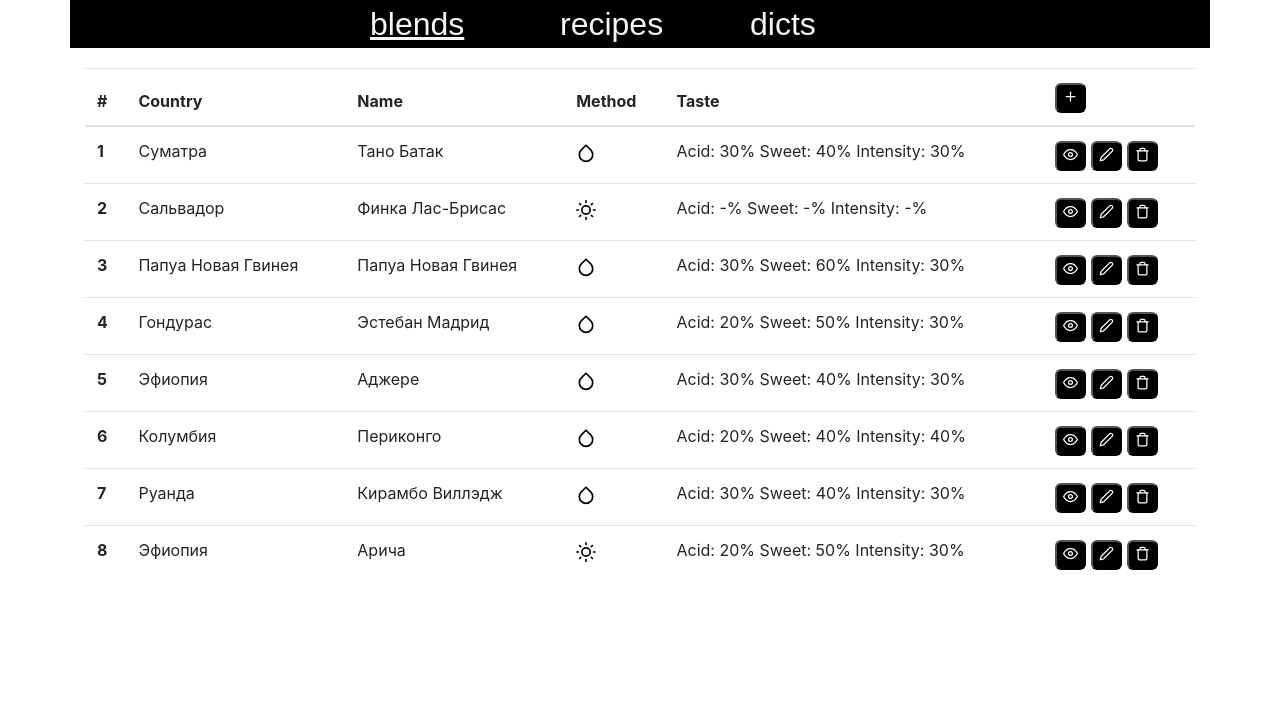
it: blends page spec › blends add value spec › should open/close a modal
Click the button with test id "add_btn".
click(1071, 98)  # box [1055,83,1086,113]
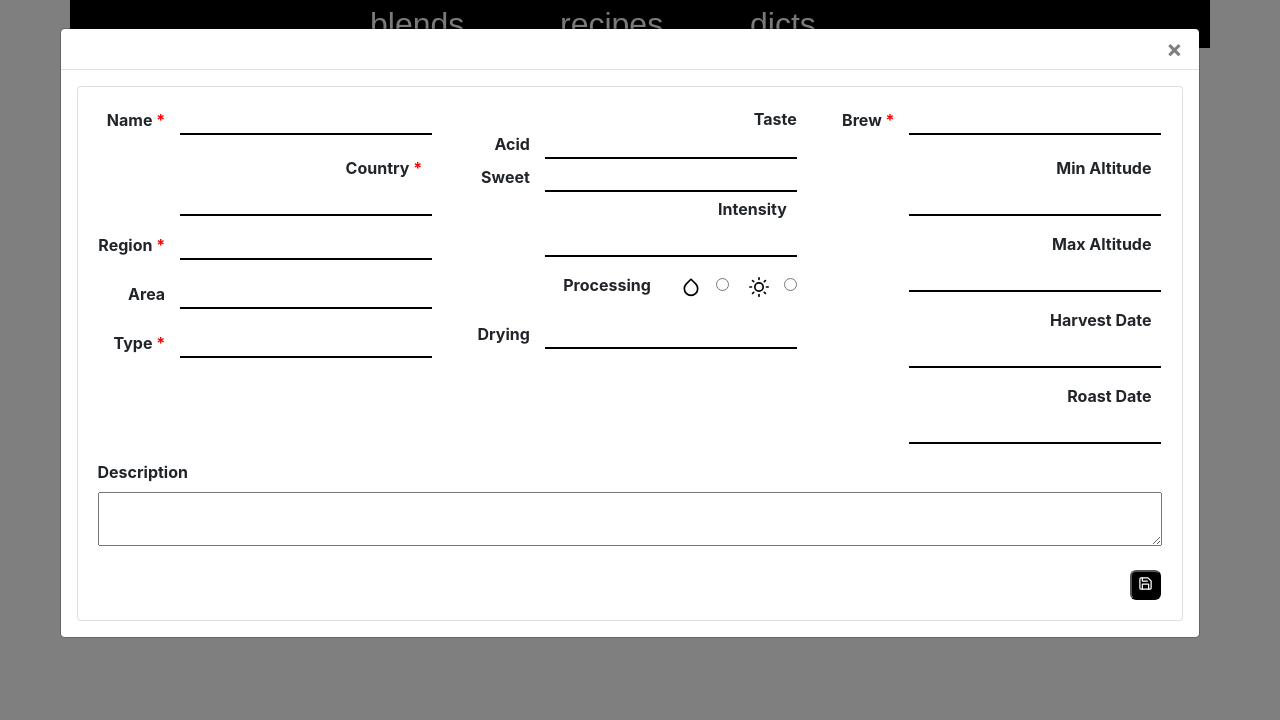
Click the button with class "close".
click(1174, 49)  # box [1150,21,1198,77]
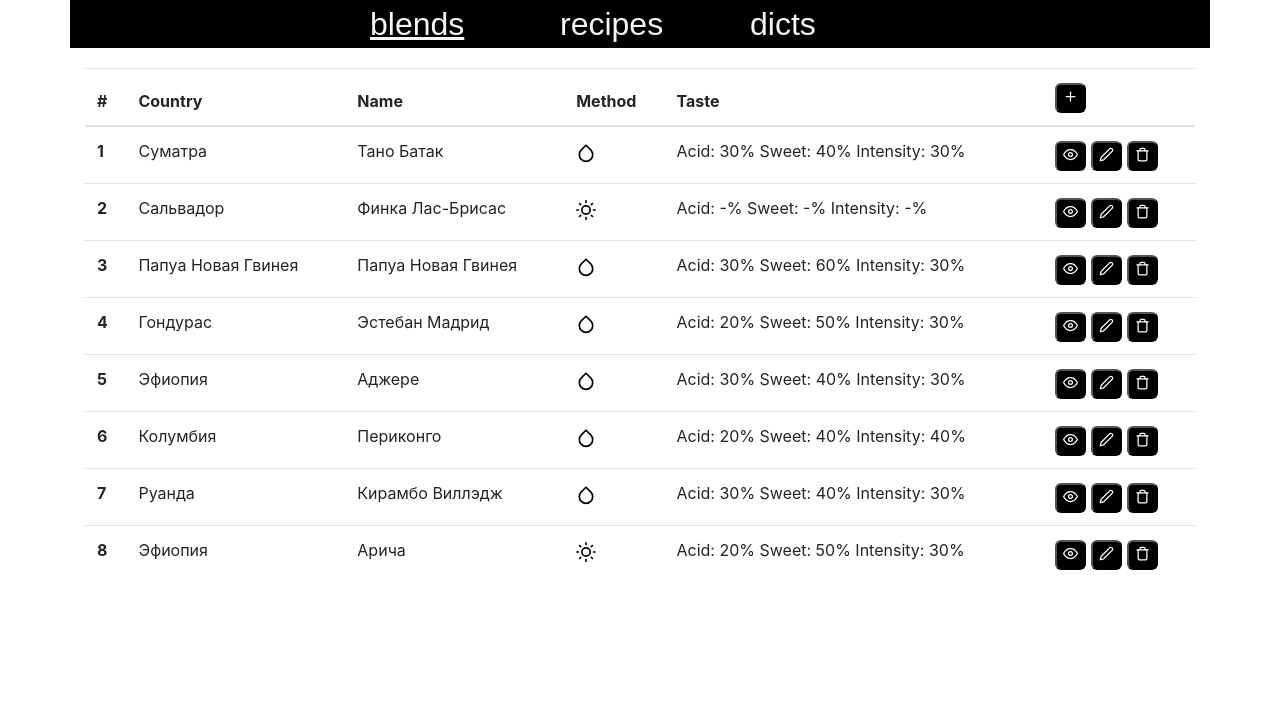
Expected: the dialog with class "modal" is gone
